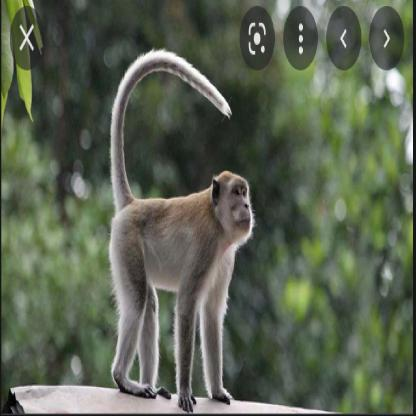monkey: (106, 47, 255, 411)
